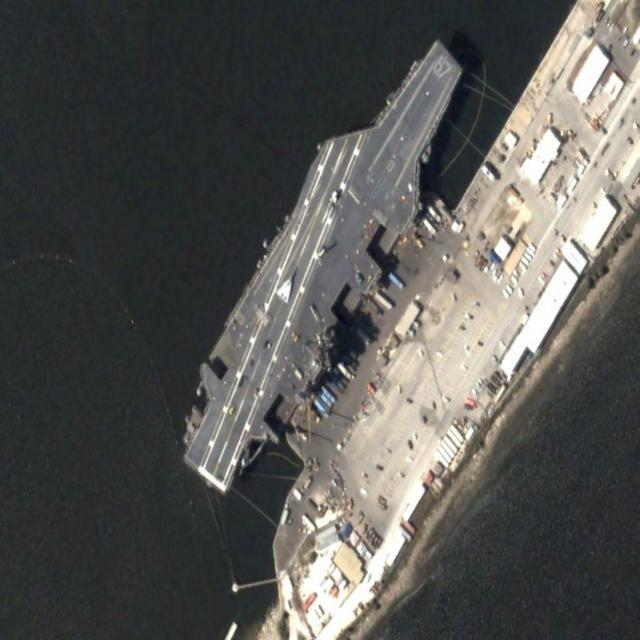Aircraft Carrier: (156, 2, 486, 526)
